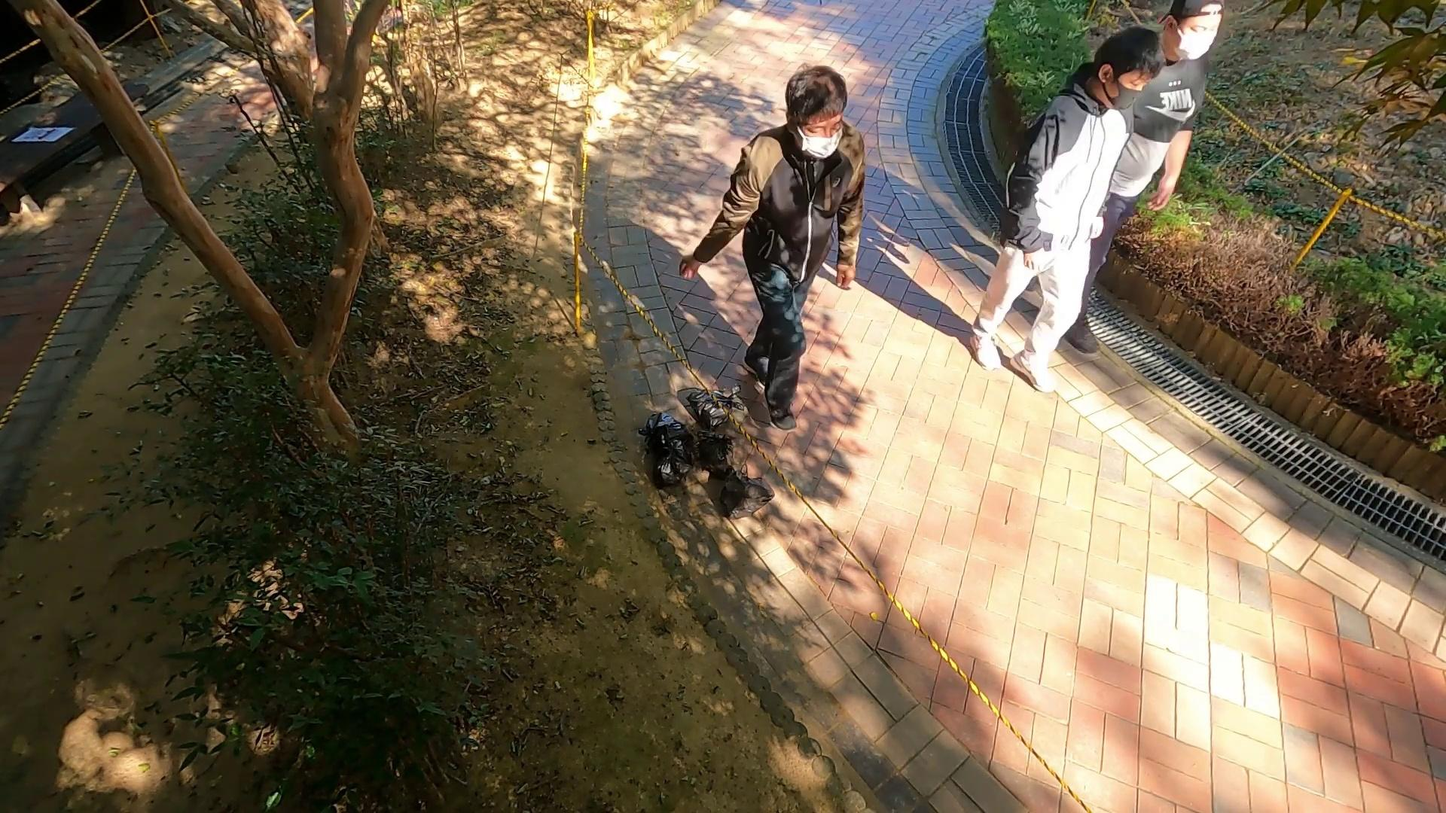person: (974, 20, 1169, 396), (678, 62, 870, 440), (1039, 0, 1223, 389)
trash: (709, 464, 777, 521), (679, 378, 744, 430), (693, 430, 751, 486), (639, 410, 701, 457), (641, 436, 696, 487)
